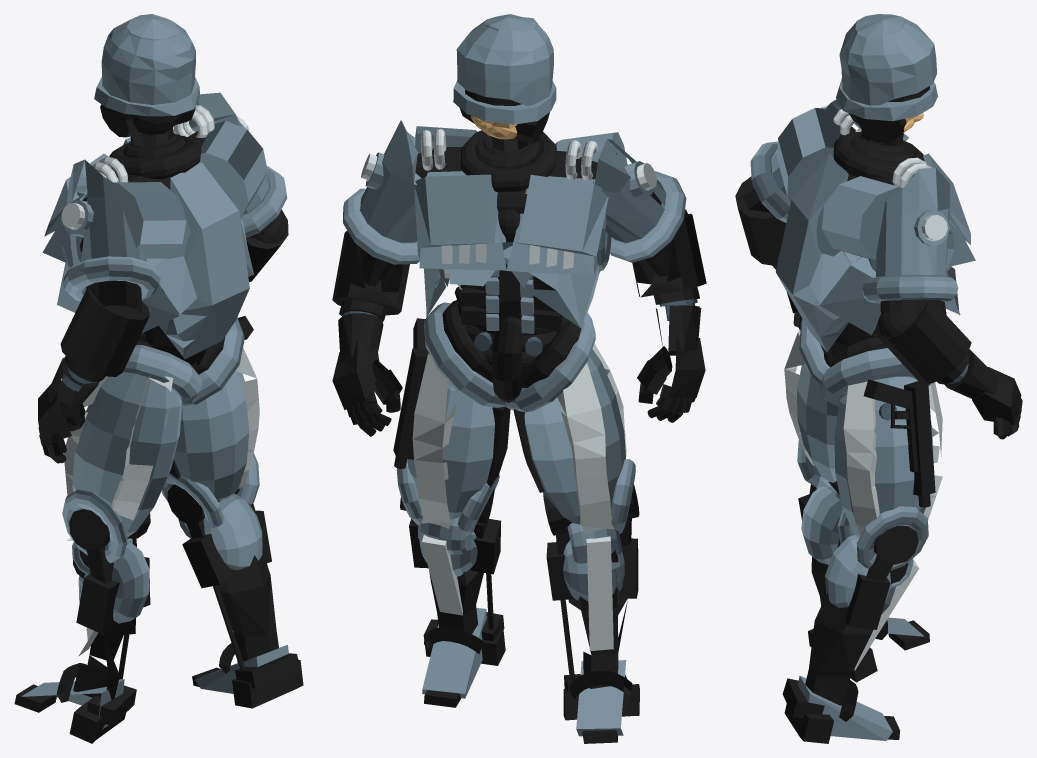
The model's file is scene_9q0XlpWLJE.glb.
The picture shows the model from 3 angles, left to right: view 1: azimuth 30°, elevation 25°; view 2: azimuth 150°, elevation 25°; view 3: azimuth 270°, elevation 25°; orthographic projection. The views are drawn at different scales.
Visible parts, largest first — view 1: Node; view 2: Node; view 3: Node.
Boxes of the visible parts, box(x1,y1,x2,y2) form: Node: box(14, 14, 303, 743); Node: box(332, 14, 706, 743); Node: box(735, 14, 1022, 743).
Size of the model in its own units: 0.395 by 0.8621 by 0.3279.
